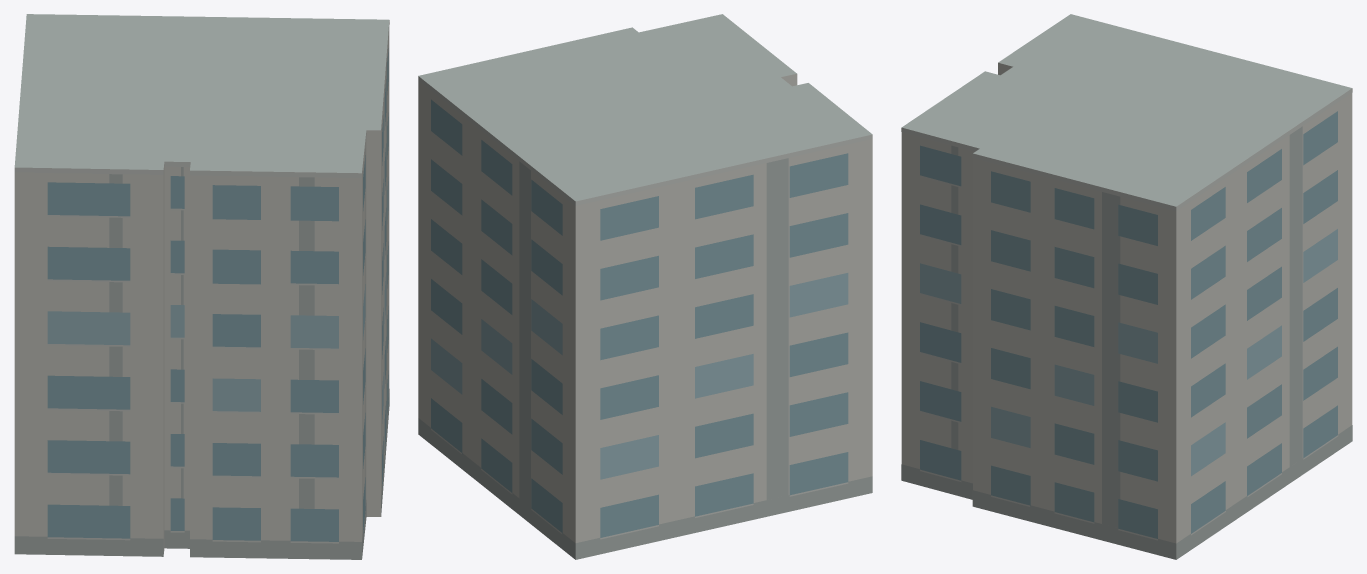
Rendered from survey-upis-32982505.glb.
The picture shows the model from 3 angles, left to right: view 1: azimuth 30°, elevation 25°; view 2: azimuth 150°, elevation 25°; view 3: azimuth 270°, elevation 25°; orthographic projection. The views are drawn at different scales.
Visible parts, largest first — view 1: survey-upis-32982505.tmp; view 2: survey-upis-32982505.tmp; view 3: survey-upis-32982505.tmp.
Part boxes in pixels (x1,y1,x2,y2): survey-upis-32982505.tmp: (14, 14, 389, 559); survey-upis-32982505.tmp: (418, 14, 872, 559); survey-upis-32982505.tmp: (901, 14, 1352, 559).
Bounding box in the file's own units: 22.13 × 18.9 × 21.88.
